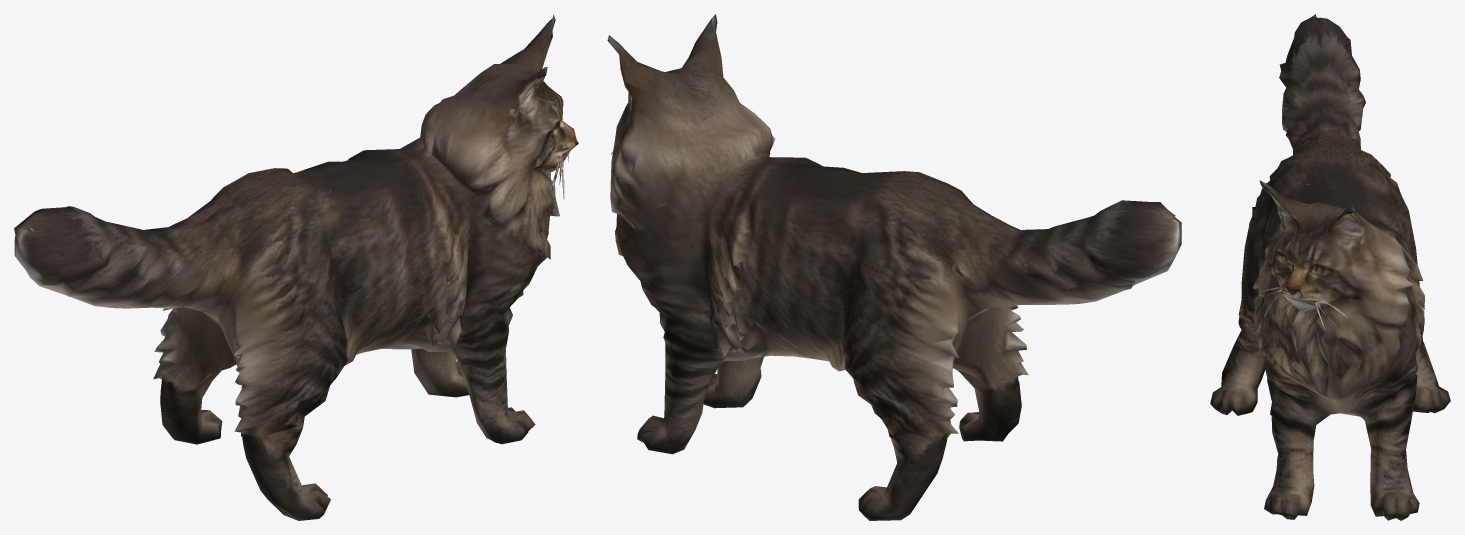
The model's file is SERPOUNCE-lo.glb.
3 views of the same model, side by side, from view 1: azimuth 30°, elevation 25°; view 2: azimuth 150°, elevation 25°; view 3: azimuth 270°, elevation 25° (orthographic). The views are drawn at different scales.
Parts seen in each view (by area): view 1: tripo_node_b734a234-8068-432c-9d06-91c883bca57b; view 2: tripo_node_b734a234-8068-432c-9d06-91c883bca57b; view 3: tripo_node_b734a234-8068-432c-9d06-91c883bca57b.
Part boxes in pixels (x1=…): tripo_node_b734a234-8068-432c-9d06-91c883bca57b: x1=14, y1=14, x2=578, y2=520; tripo_node_b734a234-8068-432c-9d06-91c883bca57b: x1=607, y1=14, x2=1181, y2=520; tripo_node_b734a234-8068-432c-9d06-91c883bca57b: x1=1210, y1=14, x2=1450, y2=520.
Bounding box in the file's own units: 1.51 × 0.9822 × 0.618.
Materials: 1 (1 with a texture image).
